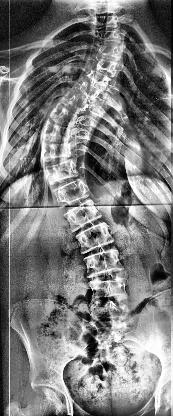Vertebrae: (74, 225, 118, 253), (60, 203, 106, 228), (82, 252, 128, 276), (88, 278, 132, 302), (52, 182, 90, 206), (42, 162, 78, 184), (40, 119, 72, 143), (60, 90, 92, 112), (38, 142, 74, 161), (73, 80, 105, 100), (83, 68, 114, 88), (49, 104, 77, 125), (90, 56, 122, 74), (93, 43, 125, 58), (90, 2, 122, 16), (90, 29, 122, 43), (88, 16, 120, 29)
